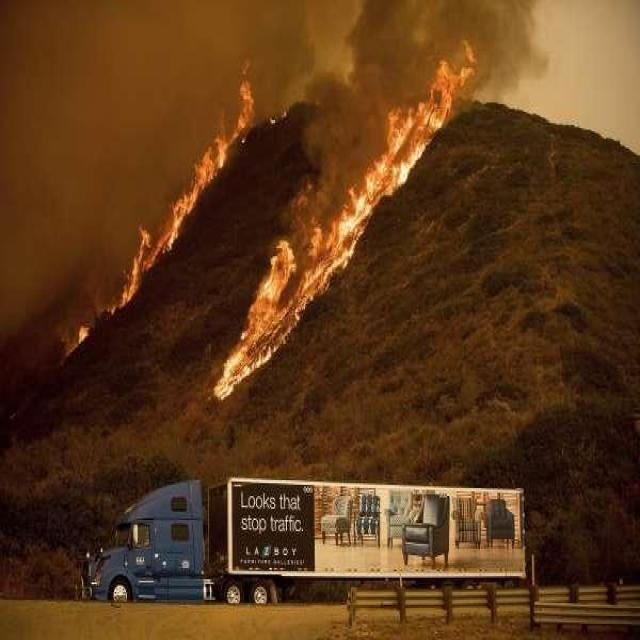Fire: (211, 32, 479, 406), (0, 52, 255, 361)
